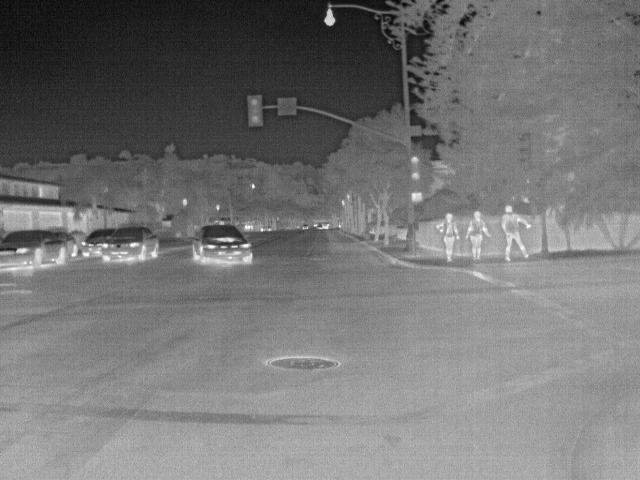car: (0, 227, 70, 273), (191, 222, 254, 268), (100, 224, 161, 265), (80, 229, 115, 257), (56, 230, 78, 258)
person: (499, 200, 532, 262), (465, 208, 492, 264), (438, 212, 462, 262)
